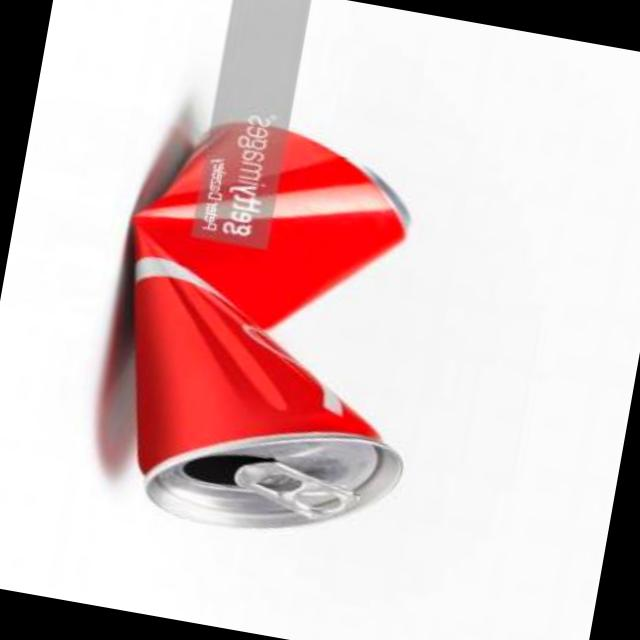metal: (134, 125, 409, 530)
